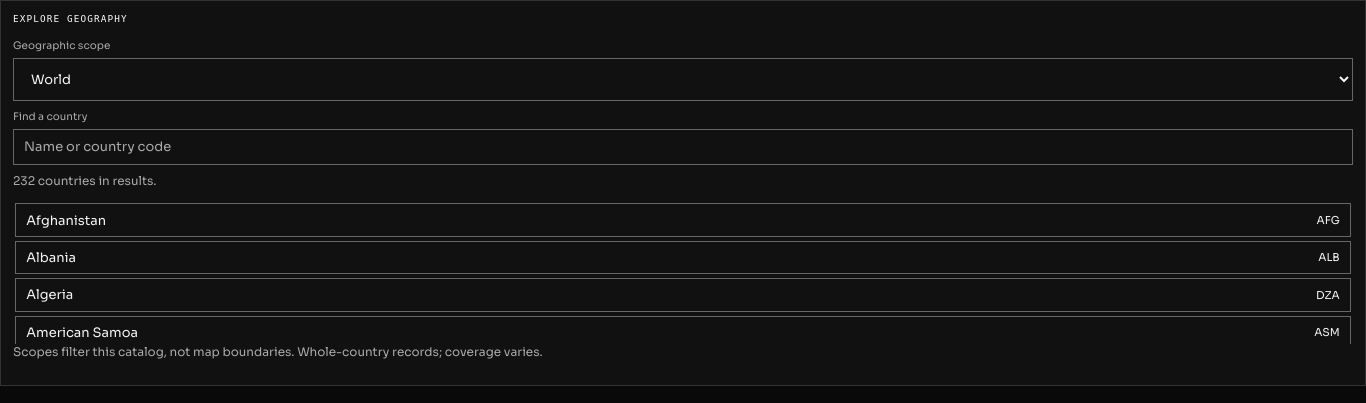
Test: CountryExplorer › explains a missing outline without navigating to an unrelated country
Step 1. Type "KOS" into the search field labelled "Find a country" → (683, 147), box [13, 129, 1353, 164]
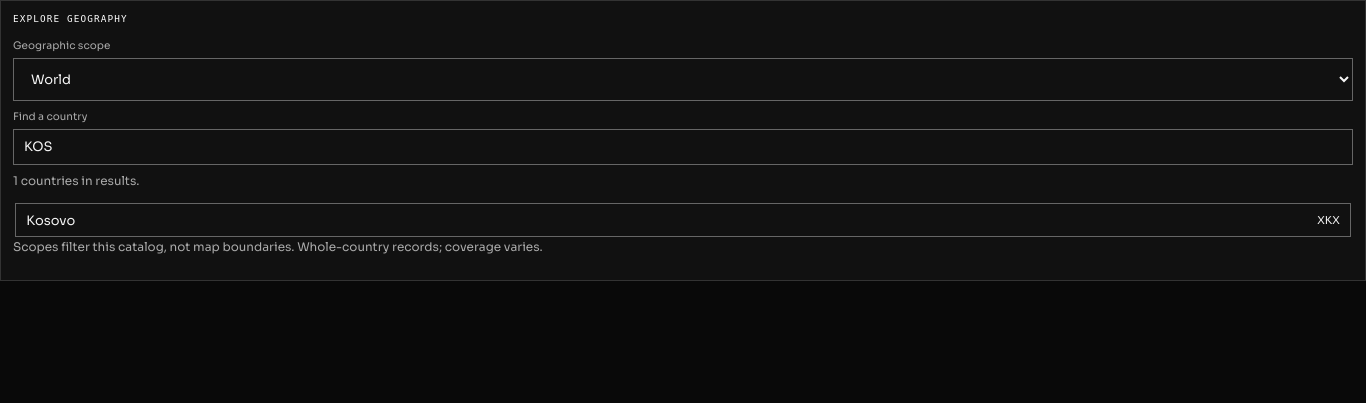
Step 2. Click the button "Kosovo XKX" → (51, 220), box [15, 203, 1351, 237]
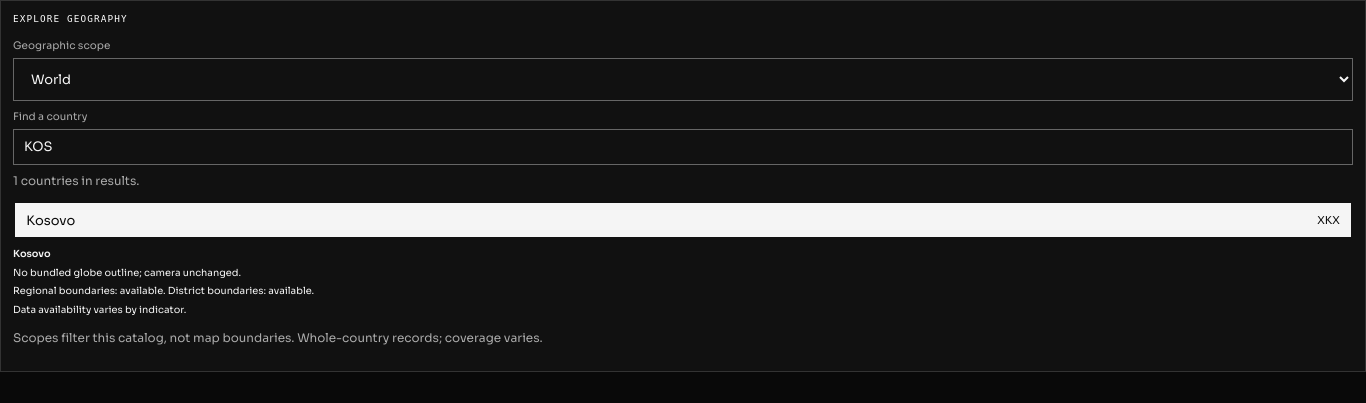
Now the text "No bundled globe outline; camera unchanged." is shown, box [13, 267, 241, 279]
